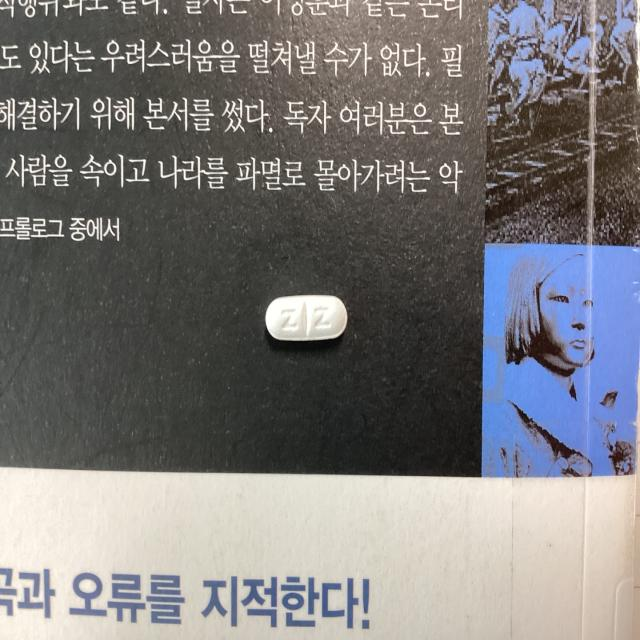-: (260, 278, 355, 350)
